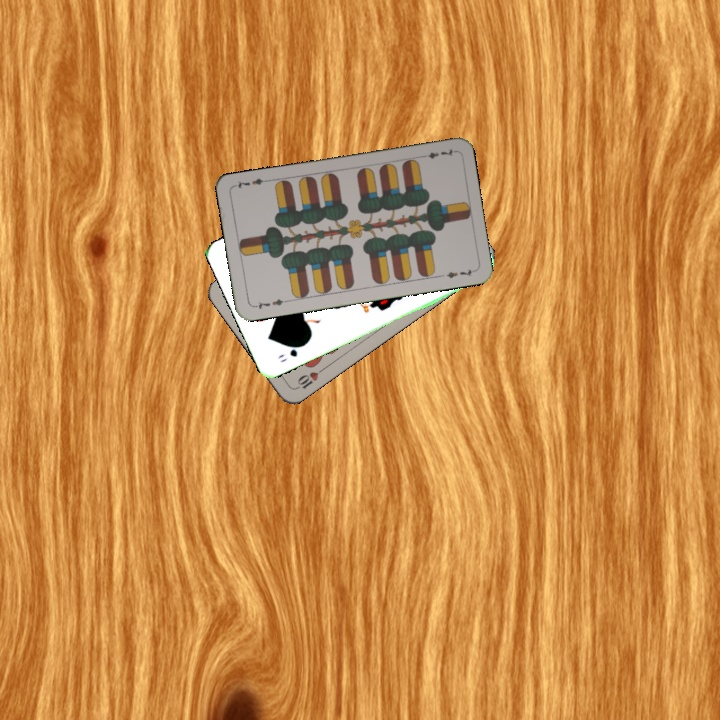E7: (250, 295, 290, 312), (417, 145, 457, 161)
GO: (273, 340, 308, 365)
H10: (291, 364, 327, 392)
